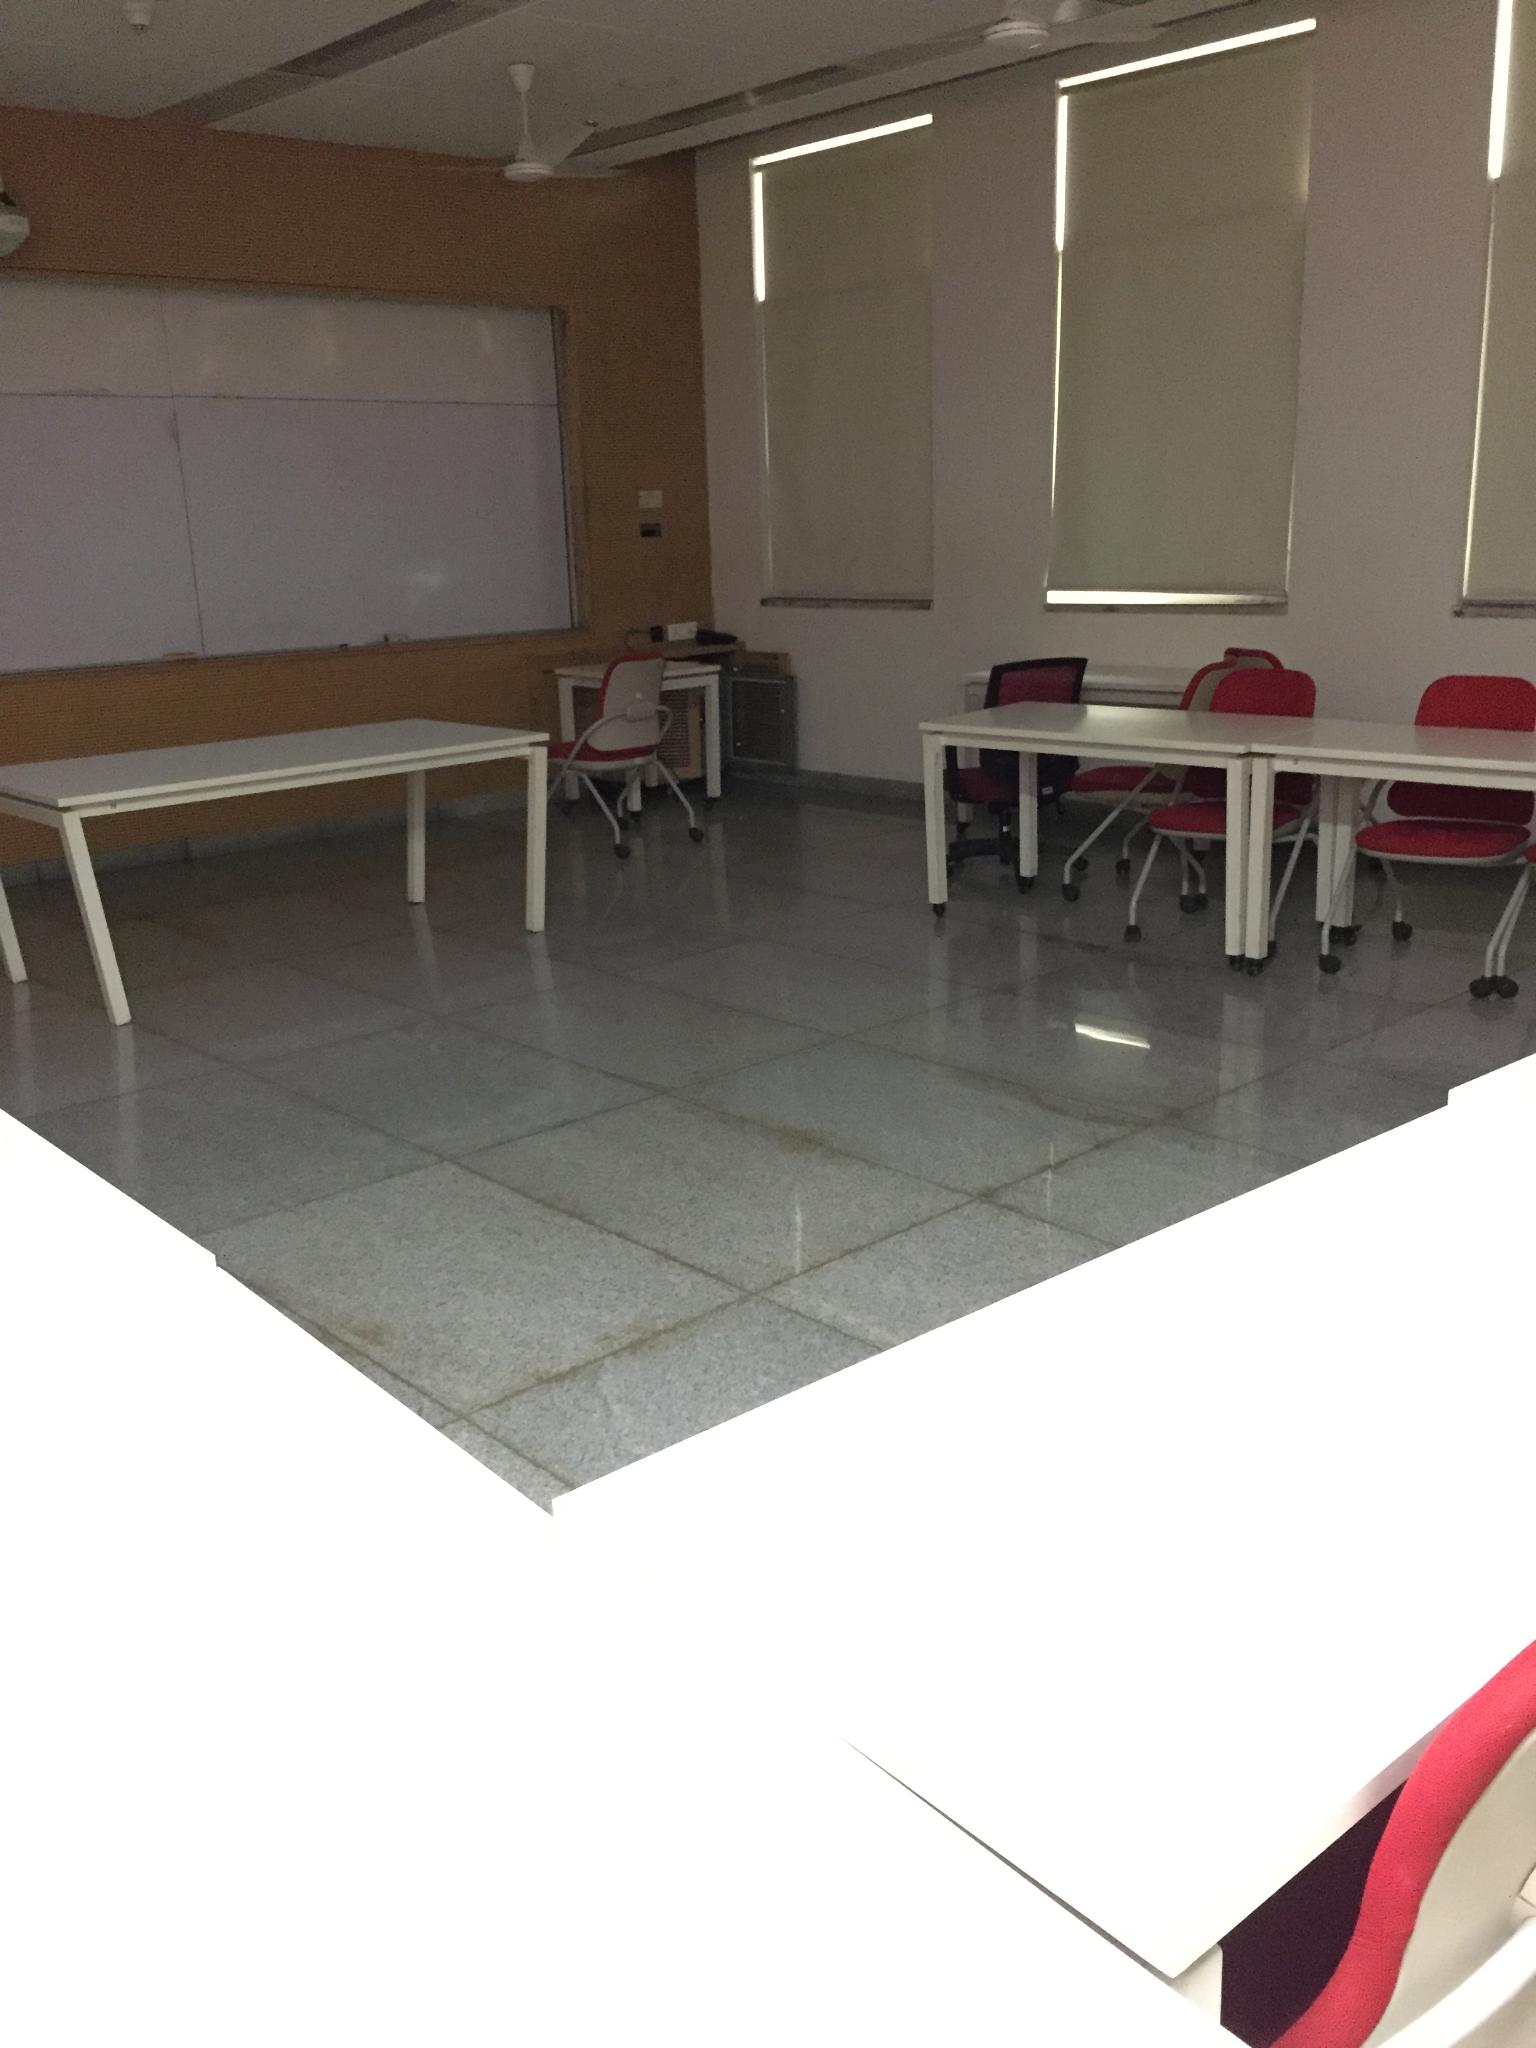chair: (1221, 1595, 1536, 2048), (1347, 674, 1534, 998), (1123, 666, 1323, 963), (547, 650, 703, 858), (942, 655, 1087, 871)
